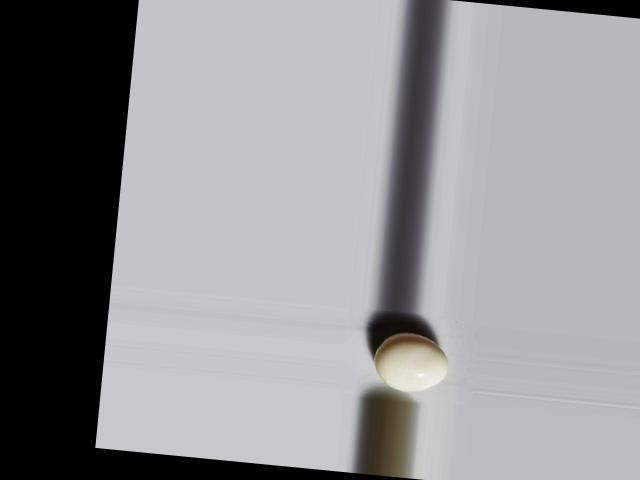egg: (370, 329, 449, 394)
